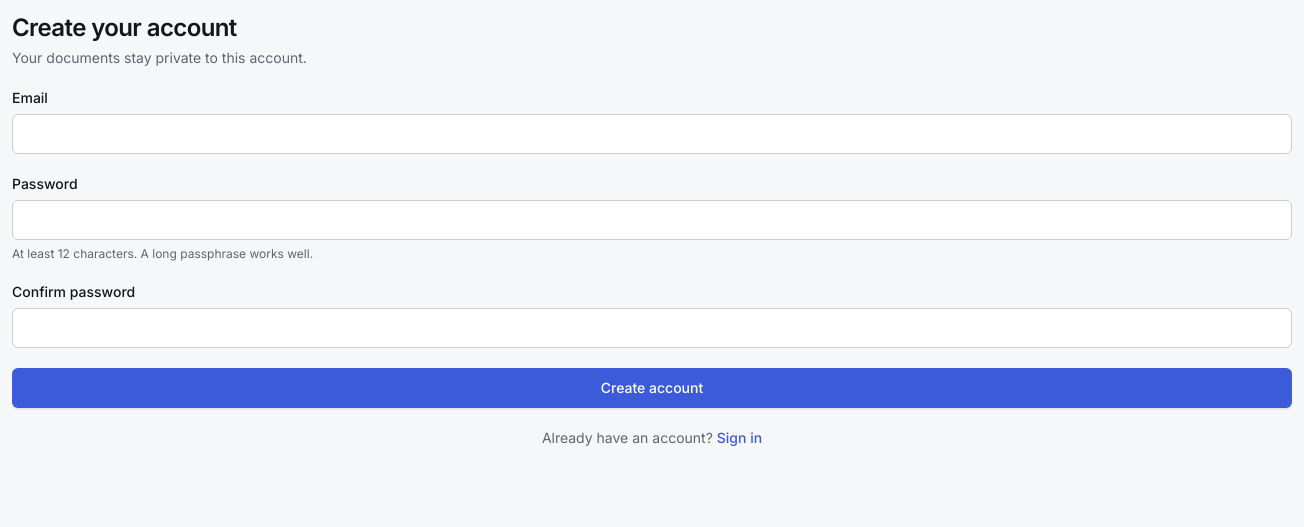
Scenario: register form › explains an already registered email
In the field labelled "Email": (652,134) [12, 114, 1292, 154], type "fixture@example.test"
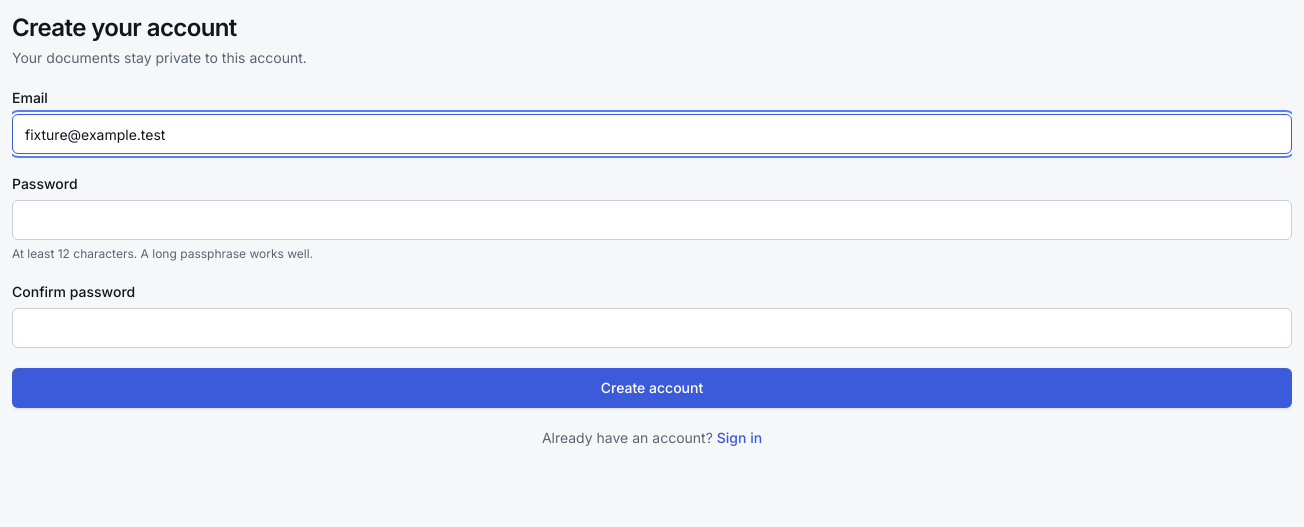
In the password field labelled "Password": (652,220) [12, 200, 1292, 240], type "fixture-password-long"
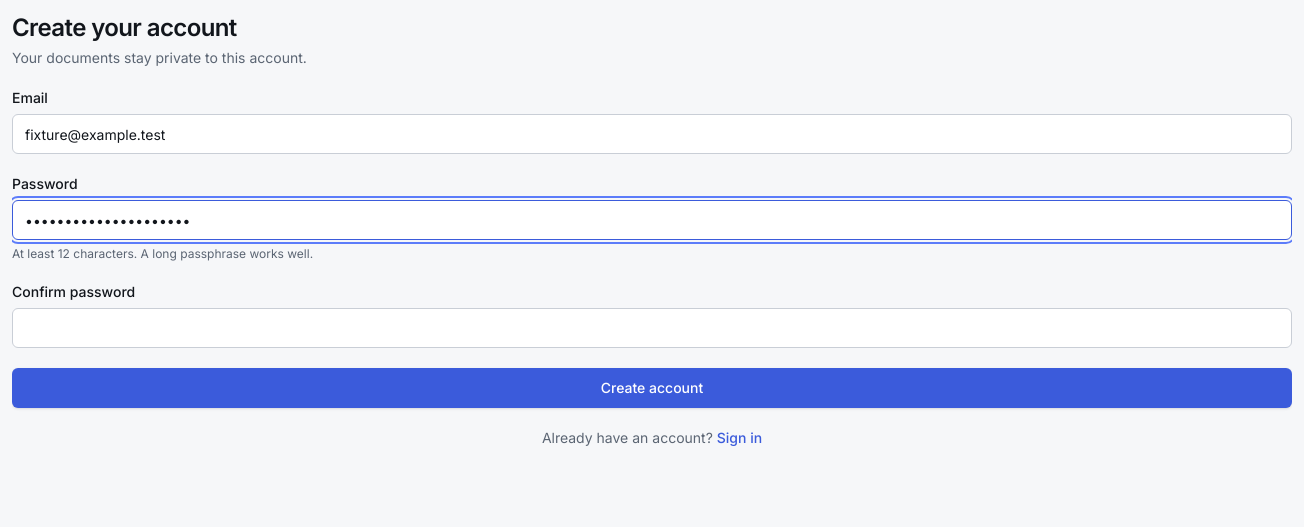
In the password field labelled "Confirm password": (652,328) [12, 308, 1292, 348], type "fixture-password-long"
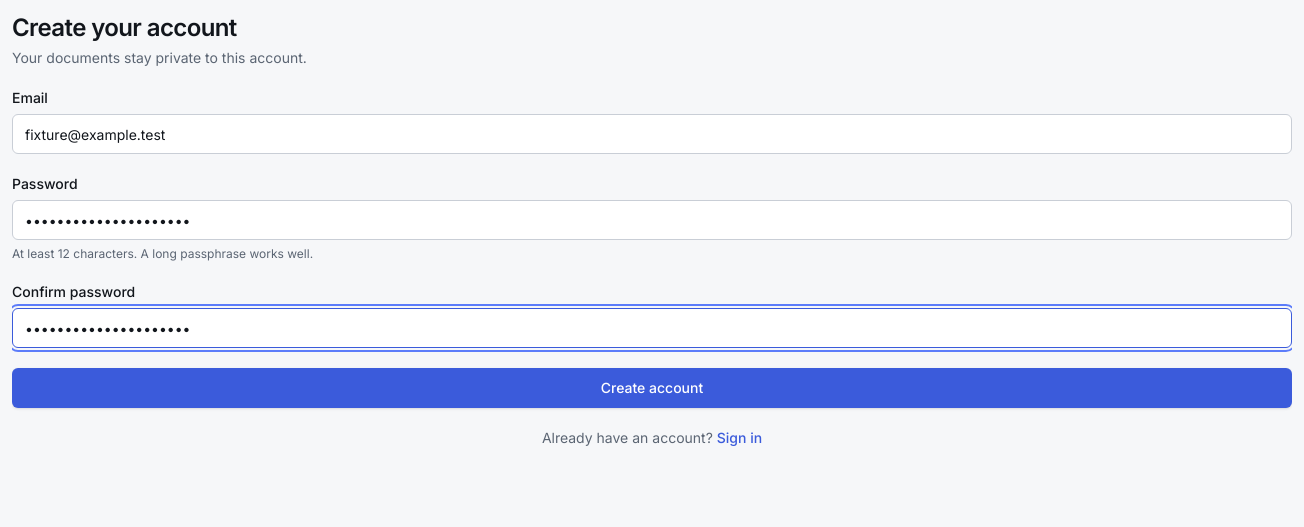
Click the button "Create account": (652,388) [12, 368, 1292, 408]
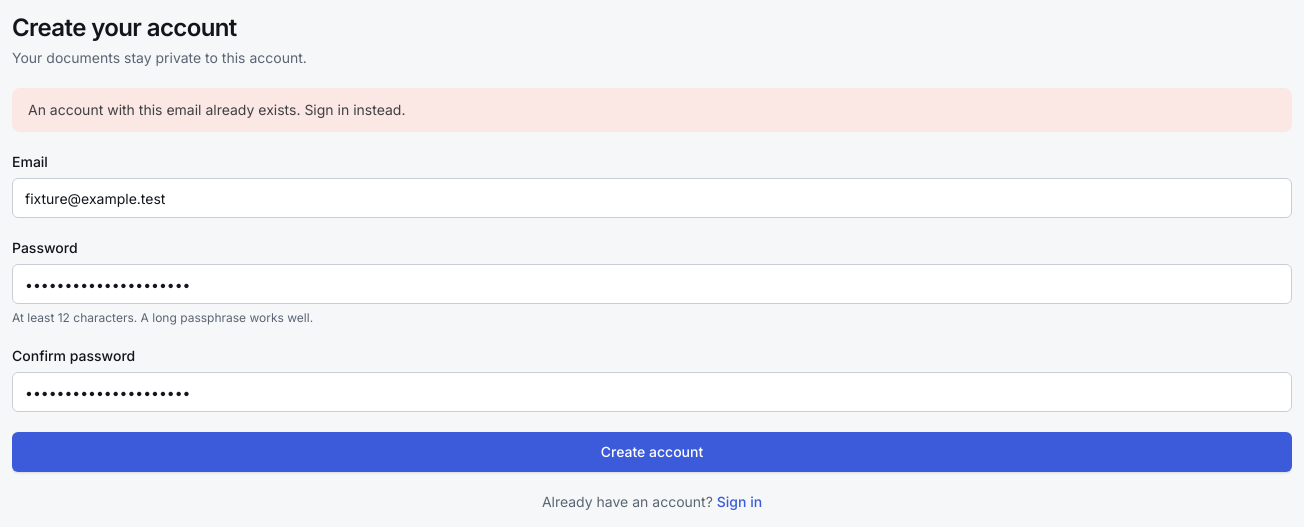
Expected: the message shows "already exists. Sign in instead.", [28, 101, 405, 118]
